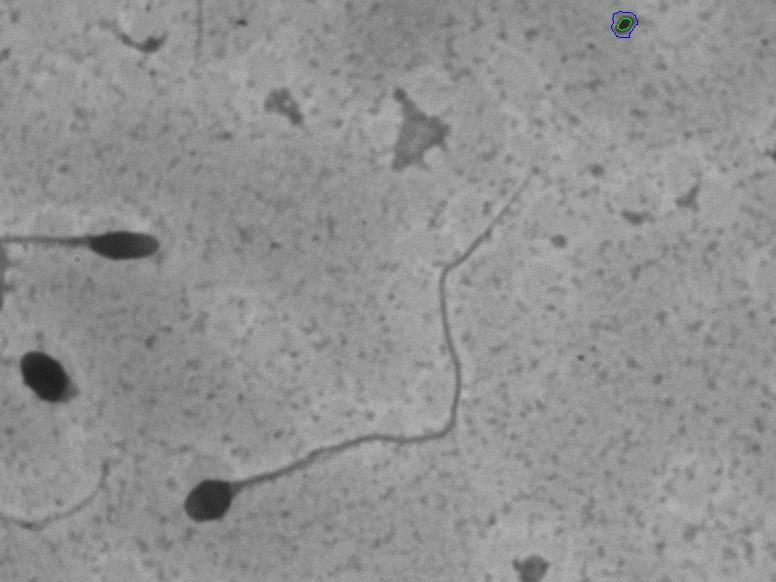Abnormal: (12, 188, 161, 287)
Normal: (177, 194, 567, 531)
